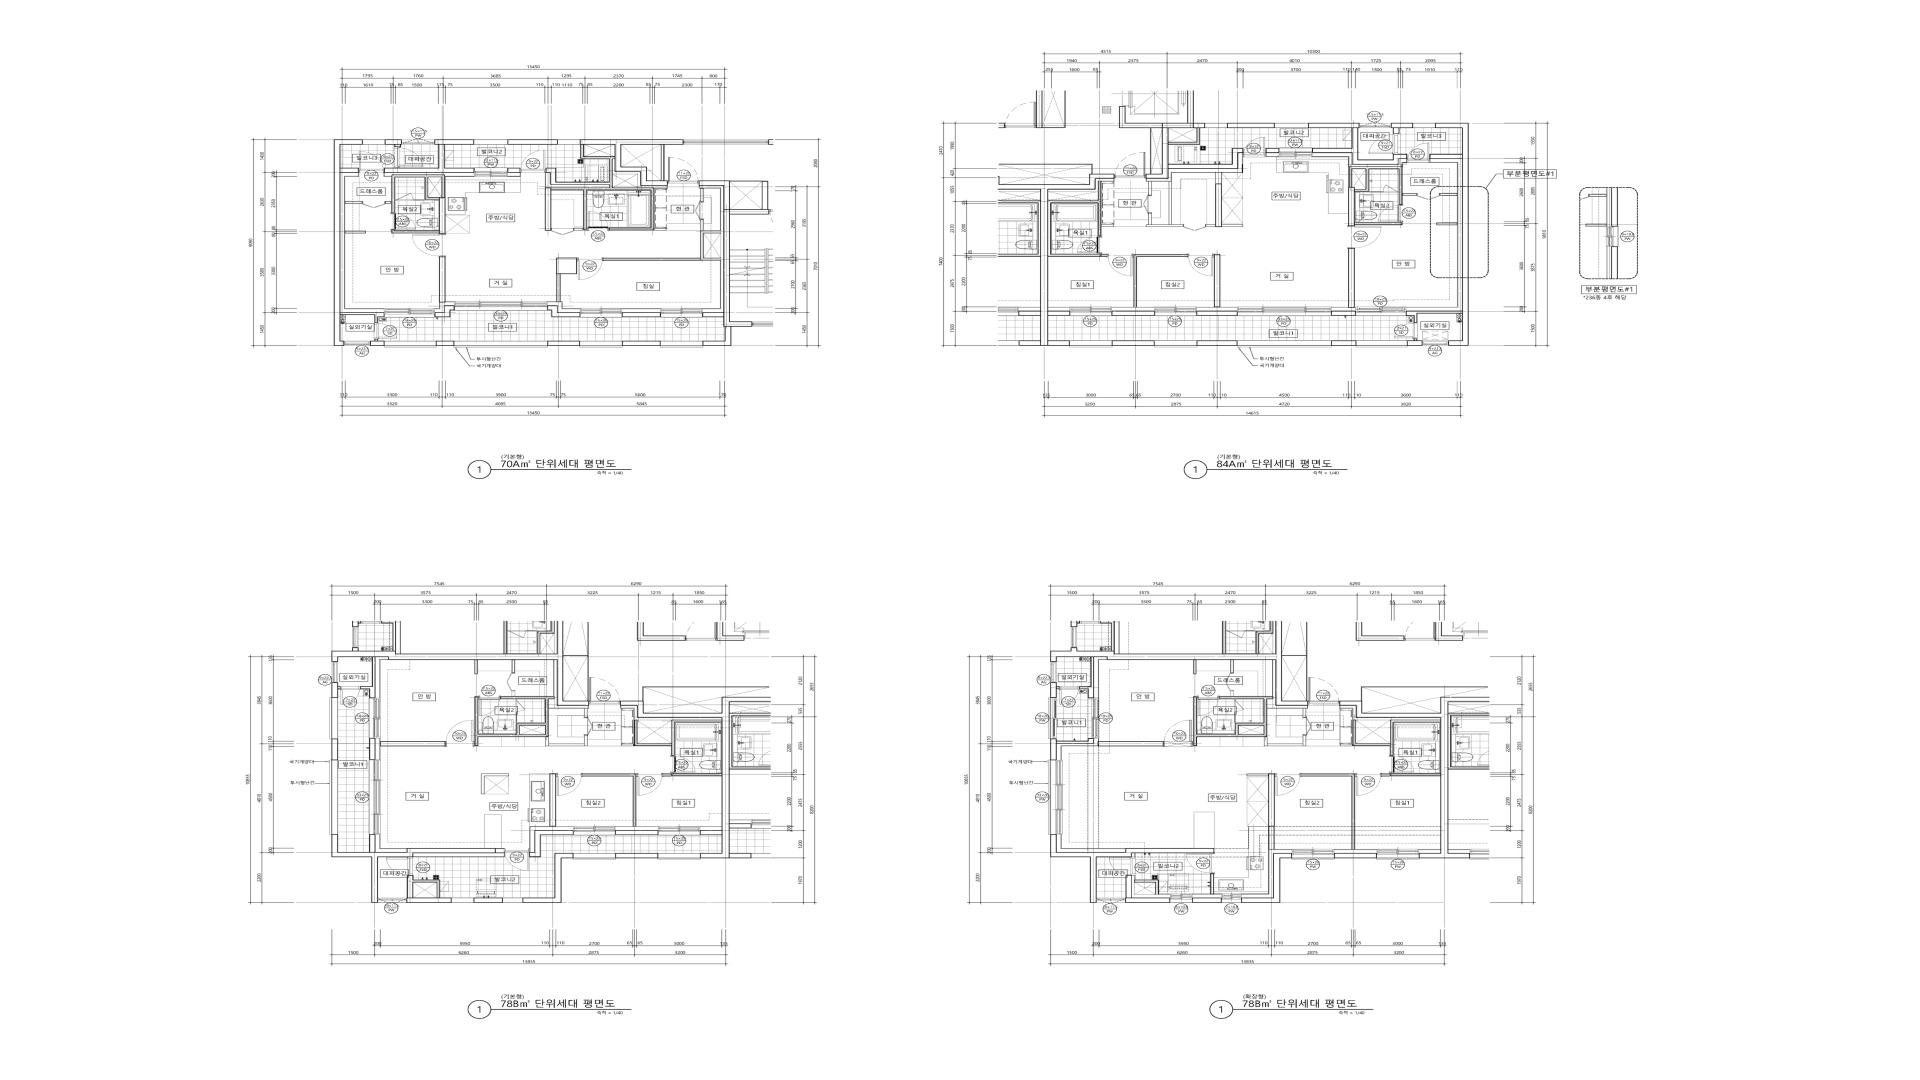door: (1114, 152, 1146, 178), (667, 157, 699, 183), (1163, 720, 1193, 746), (1308, 678, 1340, 703), (413, 233, 446, 257), (446, 720, 475, 746), (589, 678, 620, 703), (1349, 225, 1382, 248), (1369, 133, 1399, 154), (1185, 853, 1215, 874), (520, 150, 546, 173), (394, 148, 423, 167), (504, 848, 529, 870), (1356, 774, 1382, 795), (1275, 774, 1302, 795), (636, 774, 662, 795), (1188, 255, 1215, 276), (1108, 255, 1134, 276), (576, 258, 603, 280), (556, 774, 582, 795), (359, 152, 384, 173), (1109, 857, 1135, 876), (386, 857, 413, 876), (1378, 204, 1403, 223), (477, 696, 500, 716), (1407, 142, 1429, 162), (1244, 137, 1266, 157), (587, 211, 609, 231), (1197, 696, 1220, 716), (671, 756, 695, 774), (1077, 236, 1101, 255), (1390, 756, 1414, 774), (392, 214, 415, 229), (1395, 323, 1418, 339), (375, 323, 397, 339), (1059, 687, 1079, 704), (695, 200, 704, 220), (1225, 673, 1234, 691), (1183, 224, 1207, 231), (1416, 193, 1440, 199), (551, 228, 574, 235), (363, 202, 385, 208), (506, 673, 514, 691), (584, 717, 592, 736), (1143, 195, 1151, 214), (1303, 717, 1311, 736), (396, 193, 413, 200), (1383, 185, 1399, 193), (516, 699, 525, 712), (1234, 699, 1244, 712)
wall: (331, 621, 589, 705), (1051, 621, 1308, 705), (620, 698, 729, 858), (1340, 698, 1448, 858), (1406, 123, 1469, 345), (1040, 174, 1114, 345), (331, 835, 504, 903), (699, 181, 769, 345), (1051, 835, 1215, 903), (334, 140, 384, 345), (545, 145, 654, 231), (1120, 107, 1244, 179), (1406, 158, 1462, 311), (1146, 153, 1244, 227), (340, 173, 384, 313), (603, 220, 720, 261), (580, 140, 683, 186), (1308, 123, 1407, 165), (1302, 774, 1356, 849), (1193, 696, 1274, 746), (475, 696, 554, 746), (1349, 166, 1403, 227), (699, 186, 724, 313), (384, 140, 475, 173), (582, 774, 636, 827), (1134, 255, 1188, 307), (1241, 853, 1292, 903), (522, 853, 572, 903), (1241, 849, 1292, 898), (549, 659, 589, 717), (1267, 659, 1308, 717), (392, 174, 444, 214), (613, 160, 667, 187), (620, 705, 721, 720), (1340, 705, 1441, 720), (1312, 153, 1407, 166), (406, 876, 451, 903), (1125, 876, 1170, 903), (1056, 835, 1126, 852), (529, 831, 574, 857), (1282, 655, 1307, 700), (529, 827, 574, 852), (1051, 738, 1095, 761), (1056, 738, 1098, 761), (1131, 876, 1170, 898), (1048, 179, 1114, 191), (481, 774, 509, 794), (376, 835, 406, 852), (376, 657, 388, 699), (1269, 774, 1275, 849), (1095, 657, 1106, 698), (1265, 736, 1307, 746), (546, 736, 587, 746), (1168, 128, 1197, 142), (413, 882, 436, 898), (1134, 880, 1159, 894), (413, 853, 504, 857), (384, 173, 475, 177), (380, 741, 446, 746), (550, 774, 556, 827), (1097, 741, 1163, 746), (547, 306, 580, 316), (547, 302, 580, 313), (556, 257, 576, 274), (1349, 248, 1354, 307), (1352, 169, 1366, 190), (439, 257, 446, 302), (1216, 183, 1222, 227), (1215, 255, 1220, 307), (508, 140, 558, 145), (1228, 123, 1275, 128), (1391, 123, 1414, 133), (439, 198, 446, 233), (1112, 311, 1155, 316), (616, 853, 658, 858), (1335, 853, 1377, 858), (1112, 340, 1154, 345), (1196, 311, 1237, 316), (435, 306, 455, 316), (435, 302, 455, 313), (1197, 340, 1237, 345), (392, 229, 439, 233), (615, 831, 658, 835), (615, 827, 658, 831), (1112, 307, 1155, 311), (1335, 849, 1377, 853), (1196, 307, 1237, 311), (473, 898, 502, 903), (1192, 898, 1221, 903), (622, 309, 661, 313), (622, 342, 661, 345), (622, 313, 661, 316), (661, 145, 665, 181), (331, 738, 338, 760), (369, 738, 376, 760), (385, 140, 402, 148), (331, 683, 340, 698), (1050, 683, 1059, 698), (1332, 311, 1356, 316), (547, 342, 579, 345), (1332, 340, 1356, 345), (1192, 894, 1221, 898), (508, 167, 520, 177), (556, 274, 560, 302), (1407, 339, 1423, 345), (1332, 307, 1356, 311), (1419, 849, 1441, 853), (371, 339, 384, 345), (376, 738, 380, 760), (700, 827, 721, 831), (1048, 307, 1069, 311), (1266, 148, 1279, 153), (436, 342, 454, 345), (1150, 128, 1151, 174), (1222, 224, 1244, 227), (1247, 774, 1269, 777), (1211, 874, 1213, 894), (1266, 153, 1279, 157), (345, 231, 365, 233), (700, 189, 704, 202), (1230, 659, 1234, 673), (345, 202, 363, 204), (731, 181, 762, 182), (475, 659, 477, 674), (1193, 659, 1196, 674), (512, 659, 514, 673), (621, 744, 634, 746), (1101, 224, 1114, 227), (1340, 744, 1353, 746), (654, 228, 666, 231), (574, 228, 584, 231), (1207, 224, 1216, 227), (1230, 691, 1234, 696), (1370, 191, 1383, 193), (1403, 194, 1416, 195), (385, 202, 392, 204), (413, 199, 425, 200), (1131, 853, 1135, 857), (516, 712, 517, 723), (512, 691, 514, 696), (1234, 712, 1236, 723)
window: (1048, 761, 1063, 835), (1237, 307, 1332, 316), (369, 760, 380, 835), (455, 302, 547, 310), (1237, 340, 1332, 347), (454, 342, 547, 348), (330, 760, 338, 835), (384, 309, 435, 318), (1356, 307, 1406, 316), (1292, 849, 1335, 860), (1377, 849, 1419, 860), (369, 698, 380, 738), (1069, 307, 1112, 316), (661, 309, 703, 318), (580, 309, 622, 318), (1155, 307, 1196, 316), (384, 342, 436, 348), (1356, 340, 1407, 347), (658, 827, 700, 835), (1048, 698, 1056, 738), (574, 827, 615, 835), (330, 698, 338, 738), (1279, 148, 1312, 157), (475, 167, 508, 177), (572, 853, 616, 860), (1154, 340, 1197, 347), (579, 342, 622, 348), (658, 853, 700, 860), (1069, 340, 1112, 347), (661, 342, 703, 348), (1092, 698, 1098, 738), (402, 138, 434, 145), (1170, 894, 1192, 903), (378, 898, 407, 905), (1221, 894, 1241, 903), (1097, 898, 1125, 905), (473, 140, 508, 145), (1275, 123, 1308, 128), (1360, 123, 1391, 128), (331, 662, 338, 683), (451, 898, 473, 903), (1205, 123, 1228, 128), (363, 140, 385, 145), (558, 140, 580, 145), (1414, 123, 1435, 128), (1051, 662, 1056, 683), (502, 898, 522, 903), (344, 342, 371, 345), (1423, 342, 1448, 345)
